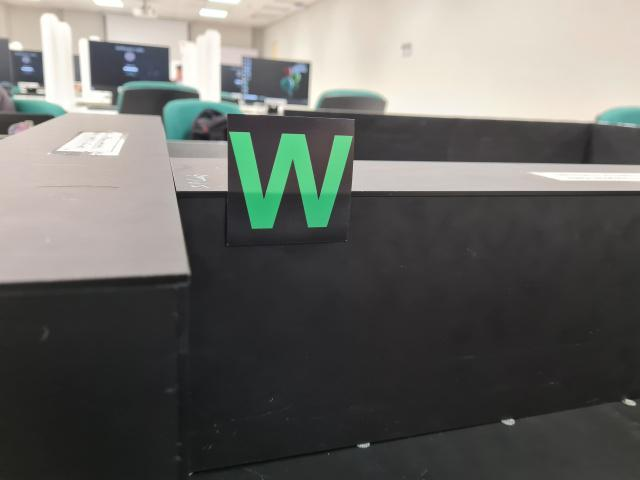w: (225, 113, 356, 245)
